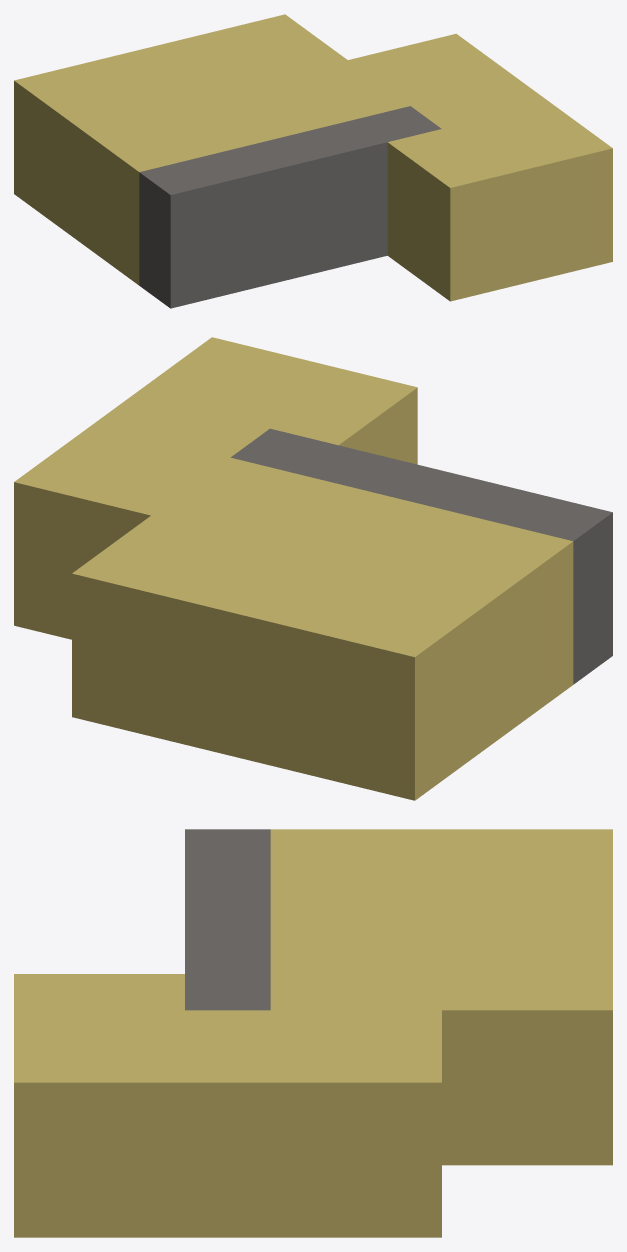
The model's file is moneda_suelta_hierro_01.glb.
The picture shows the model from 3 angles, top to bottom: view 1: azimuth 30°, elevation 25°; view 2: azimuth 150°, elevation 25°; view 3: azimuth 270°, elevation 25°; orthographic projection. The views are drawn at different scales.
Visible parts, largest first — view 1: moneda_suelta_hierro; view 2: moneda_suelta_hierro; view 3: moneda_suelta_hierro.
Part boxes in pixels (box(x1,y1,x2,y2)): moneda_suelta_hierro: box(14, 14, 612, 308); moneda_suelta_hierro: box(14, 337, 612, 800); moneda_suelta_hierro: box(14, 829, 612, 1237).
Bounding box in the file's own units: 0.7 × 0.2 × 0.7.
